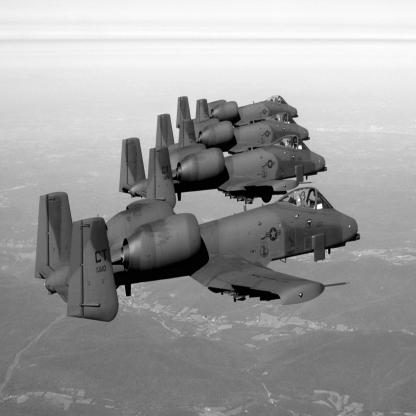A10: (35, 189, 361, 323), (120, 136, 328, 210), (156, 113, 311, 156), (177, 96, 300, 130)
